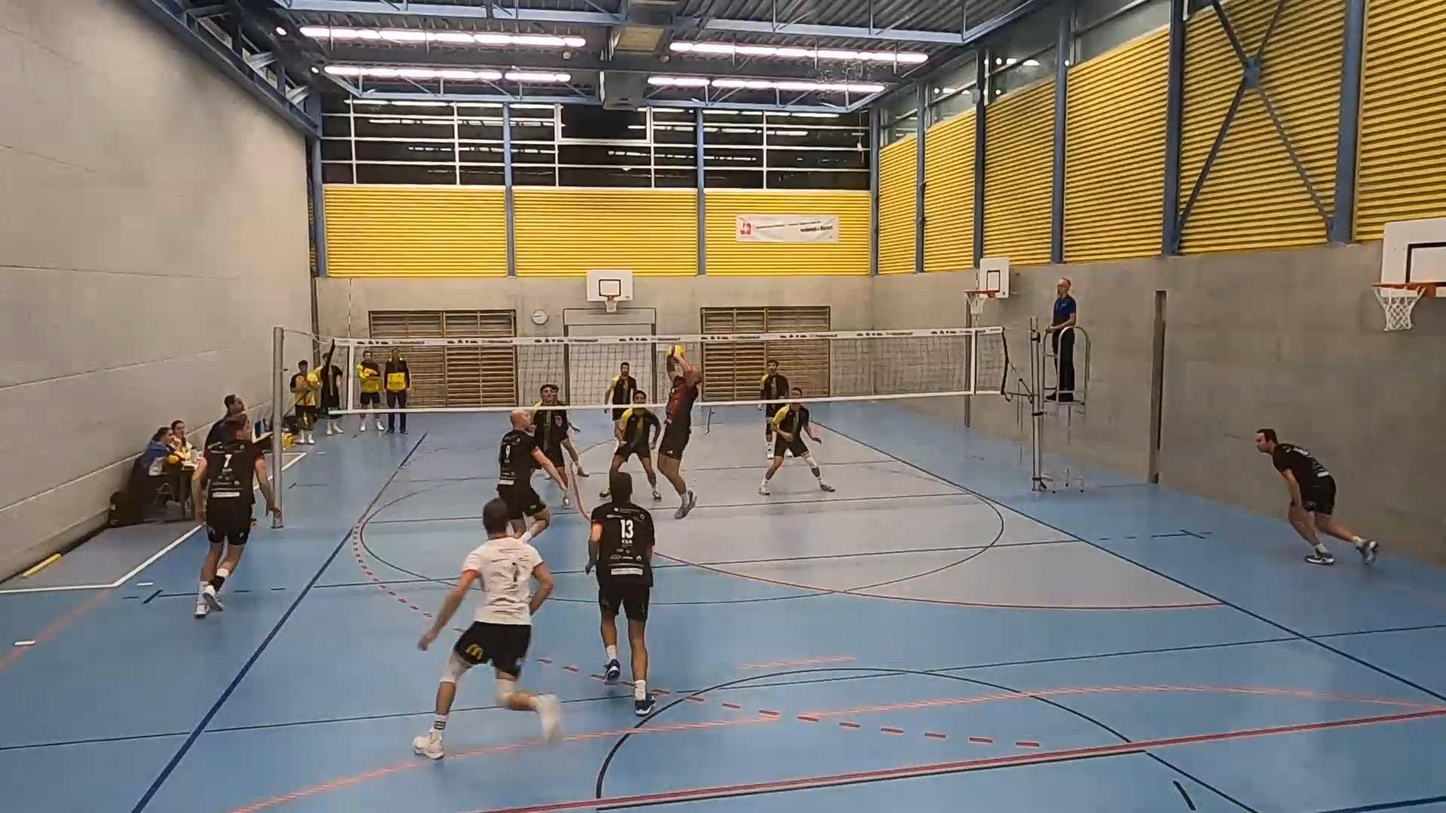alzata: (648, 356, 704, 518)
